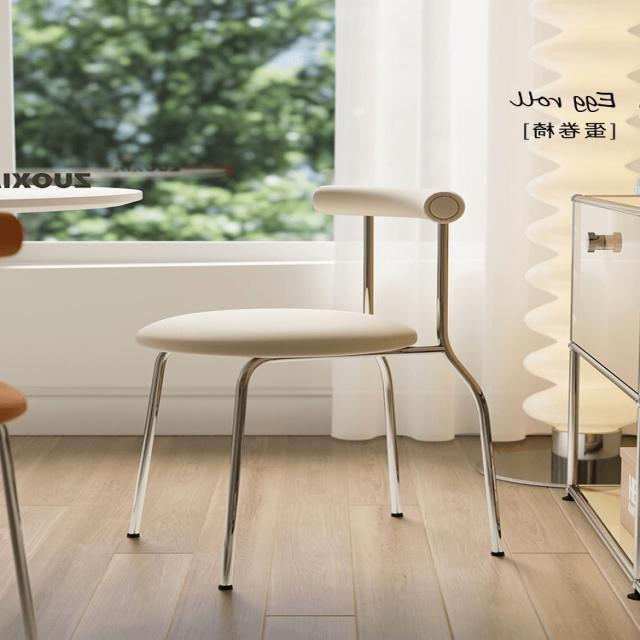chair: (122, 178, 510, 595), (124, 176, 456, 351)
